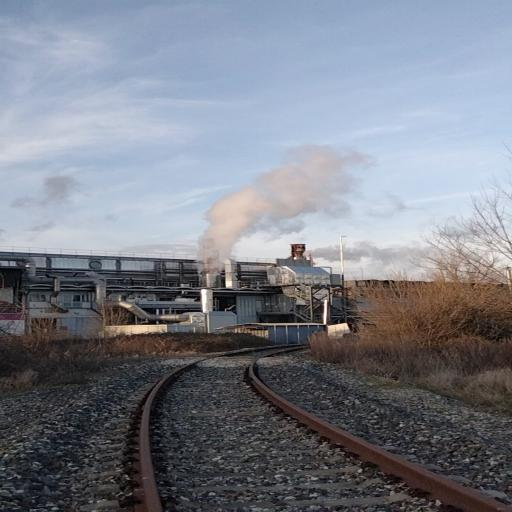leakage: (186, 133, 385, 285), (285, 234, 460, 278)
